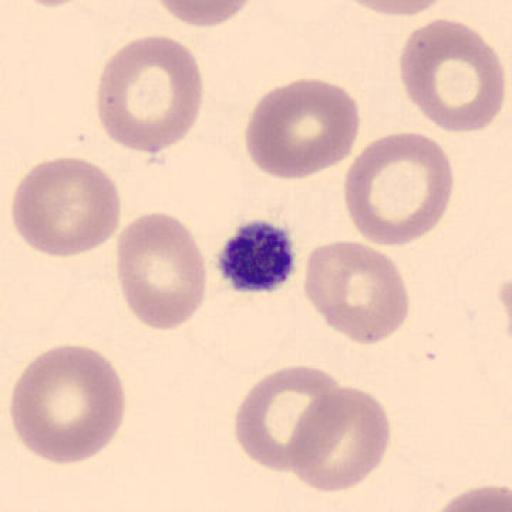Platelet: (215, 217, 297, 294)
RBC: (8, 343, 127, 467), (95, 34, 205, 155), (344, 130, 454, 248), (398, 17, 506, 134), (244, 76, 362, 181), (234, 365, 345, 473), (303, 238, 411, 346), (285, 385, 392, 494), (10, 155, 122, 258), (115, 211, 208, 332), (154, 0, 256, 28), (431, 484, 512, 512), (338, 0, 447, 18), (370, 0, 445, 17), (12, 0, 91, 8)
